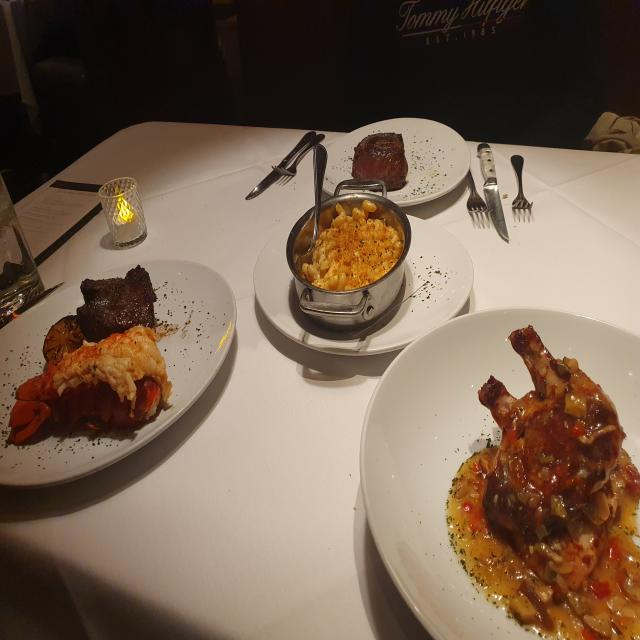Bowl: (285, 182, 412, 332)
Cup: (98, 176, 147, 249)
Plate: (359, 306, 640, 640), (0, 258, 237, 489), (253, 213, 474, 357), (321, 116, 471, 208)
